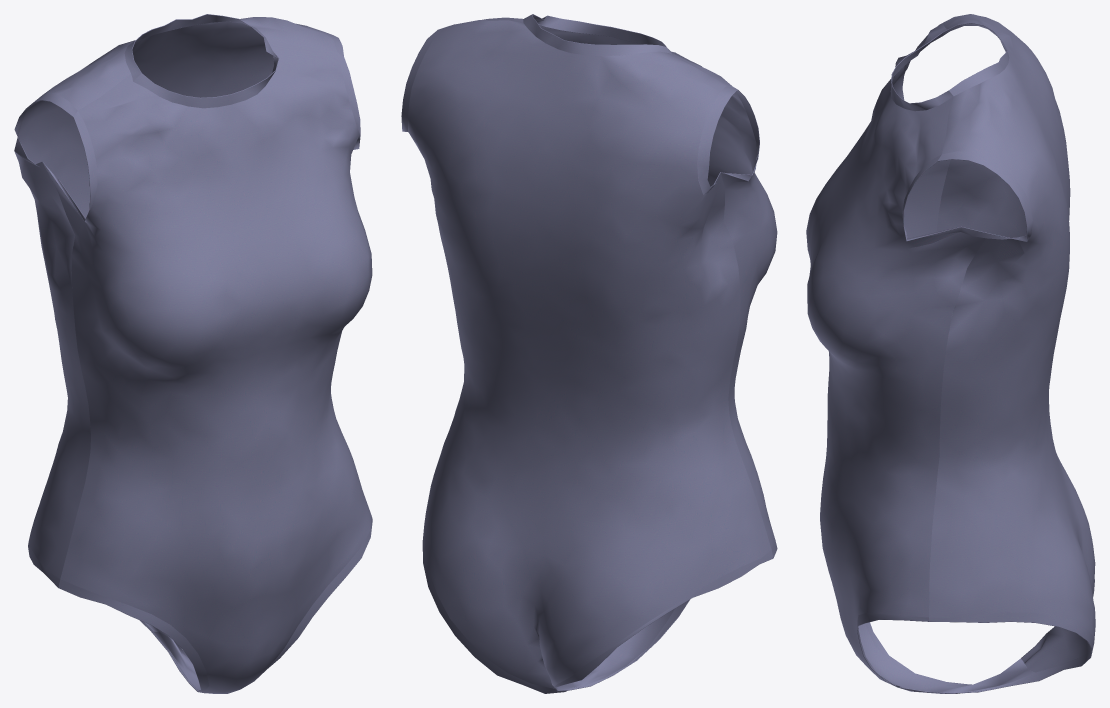
The picture shows the model from 3 angles, left to right: view 1: azimuth 30°, elevation 25°; view 2: azimuth 150°, elevation 25°; view 3: azimuth 270°, elevation 25°; orthographic projection. The views are drawn at different scales.
Visible parts, largest first — view 1: Pattern2D_3238331, Pattern2D_3236131, Pattern2D_12635, Pattern2D_3238332, Pattern2D_10739, Pattern2D_3238333, Pattern2D_10728, Pattern2D_11019; view 2: Pattern2D_3236131, Pattern2D_3238331, Pattern2D_12635, Pattern2D_3238332, Pattern2D_10728, Pattern2D_3238333, Pattern2D_10739, Pattern2D_11019; view 3: Pattern2D_3236131, Pattern2D_3238331, Pattern2D_3238333, Pattern2D_11019, Pattern2D_10728, Pattern2D_10739.
Part boxes in pixels (left/top/right/bottom): Pattern2D_3238331: left=43, top=38, right=372, bottom=693; Pattern2D_3236131: left=14, top=17, right=336, bottom=632; Pattern2D_12635: left=28, top=543, right=209, bottom=692; Pattern2D_3238332: left=14, top=93, right=97, bottom=221; Pattern2D_10739: left=133, top=37, right=278, bottom=108; Pattern2D_3238333: left=268, top=516, right=372, bottom=668; Pattern2D_10728: left=124, top=14, right=265, bottom=81; Pattern2D_11019: left=328, top=33, right=360, bottom=149; Pattern2D_3236131: left=408, top=17, right=771, bottom=688; Pattern2D_3238331: left=539, top=24, right=777, bottom=688; Pattern2D_12635: left=554, top=540, right=777, bottom=691; Pattern2D_3238332: left=697, top=85, right=759, bottom=194; Pattern2D_10728: left=523, top=14, right=672, bottom=55; Pattern2D_3238333: left=422, top=515, right=567, bottom=693; Pattern2D_10739: left=533, top=15, right=673, bottom=55; Pattern2D_11019: left=401, top=25, right=451, bottom=131; Pattern2D_3236131: left=929, top=14, right=1095, bottom=672; Pattern2D_3238331: left=806, top=23, right=1034, bottom=693; Pattern2D_3238333: left=857, top=612, right=1094, bottom=693; Pattern2D_11019: left=902, top=151, right=1032, bottom=241; Pattern2D_10728: left=942, top=22, right=1009, bottom=95; Pattern2D_10739: left=890, top=32, right=953, bottom=111.
Size of the model in its own units: 34.4 by 67.6 by 27.57.
